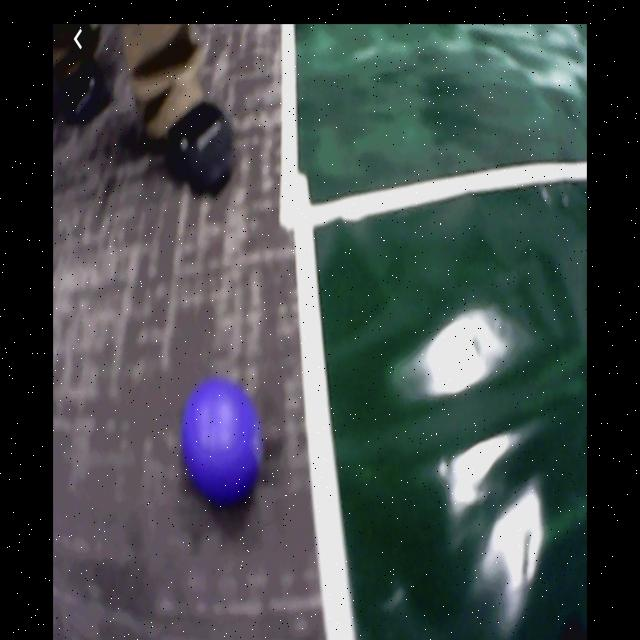ball: (182, 382, 262, 501)
